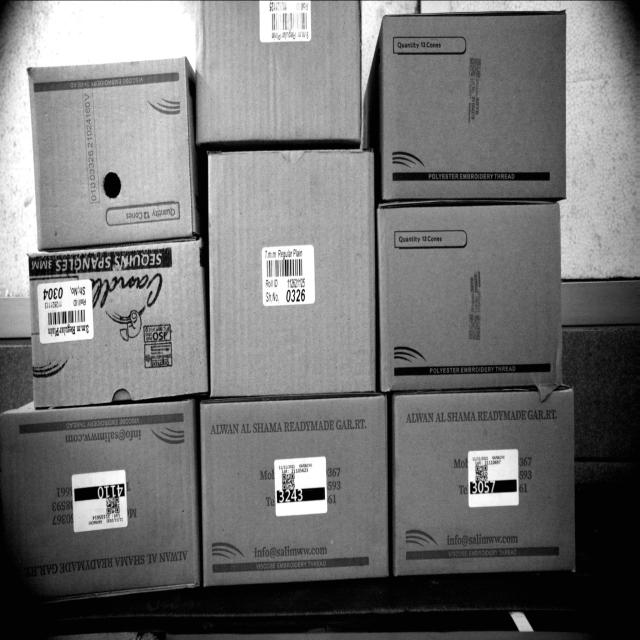cardboxes: (203, 148, 377, 391), (0, 399, 196, 604), (200, 392, 390, 594), (391, 386, 580, 580), (378, 202, 563, 394), (380, 10, 564, 197), (30, 64, 198, 238), (21, 246, 205, 401), (192, 0, 366, 148)
